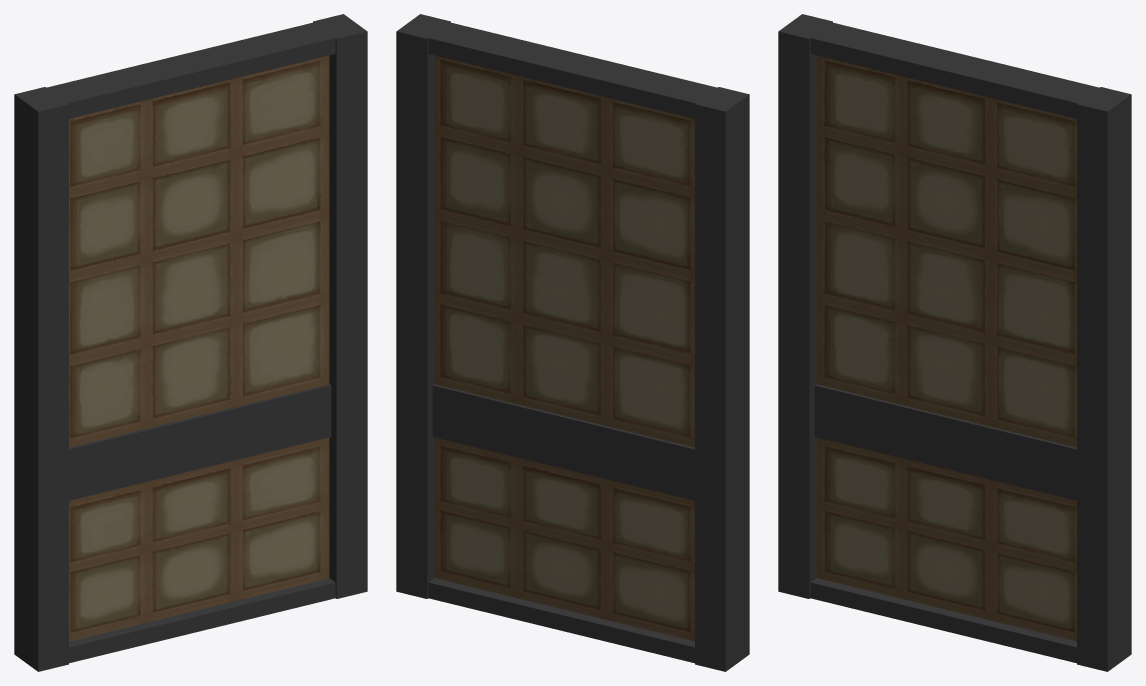
The model's file is SM_door_01.FBX.
3 views of the same model, side by side, from view 1: azimuth 30°, elevation 25°; view 2: azimuth 150°, elevation 25°; view 3: azimuth 330°, elevation 25° (orthographic).
Visible parts, largest first — view 1: SM_door_01_LOD0; view 2: SM_door_01_LOD0; view 3: SM_door_01_LOD0.
Boxes of the visible parts, <box> form: SM_door_01_LOD0: <box>14,14,367,671</box>; SM_door_01_LOD0: <box>396,14,749,671</box>; SM_door_01_LOD0: <box>778,14,1131,671</box>.
Size of what is drawn, in the model's own units: 170 by 21.32 by 276.
